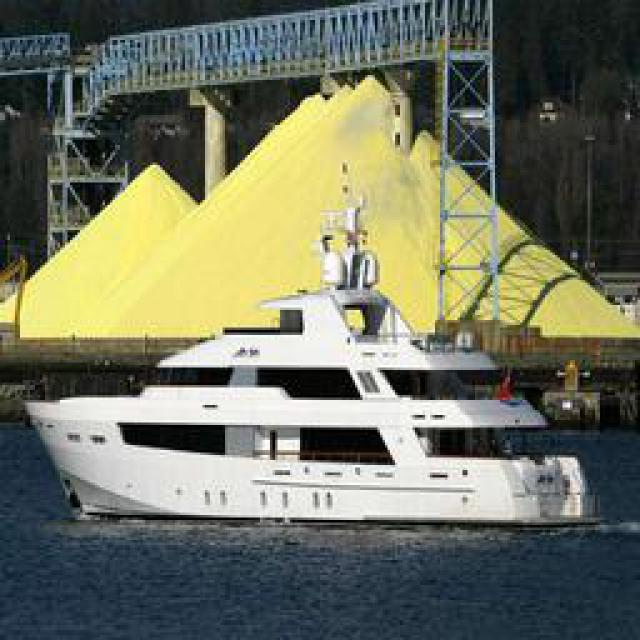Ship: (22, 239, 625, 529)
